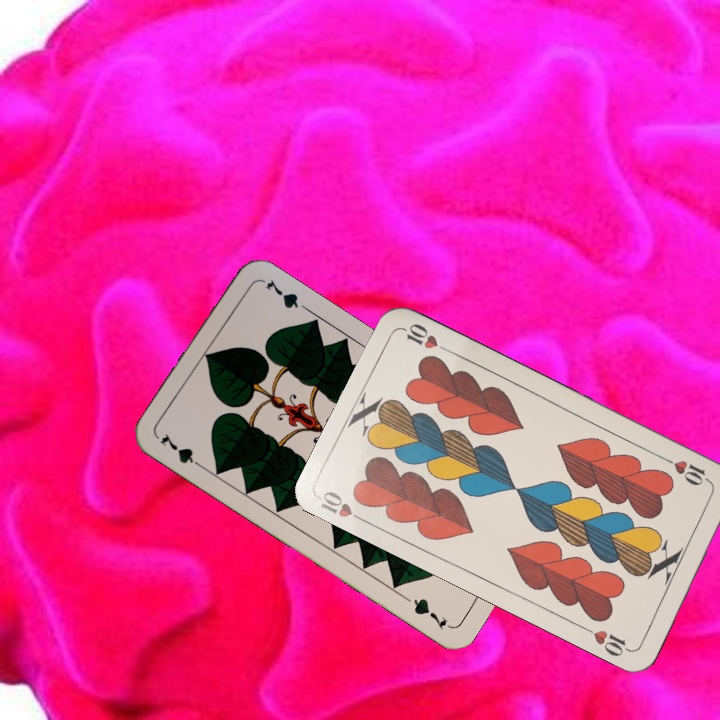G7: (156, 429, 208, 472)
H10: (315, 487, 371, 526), (659, 453, 715, 489)
